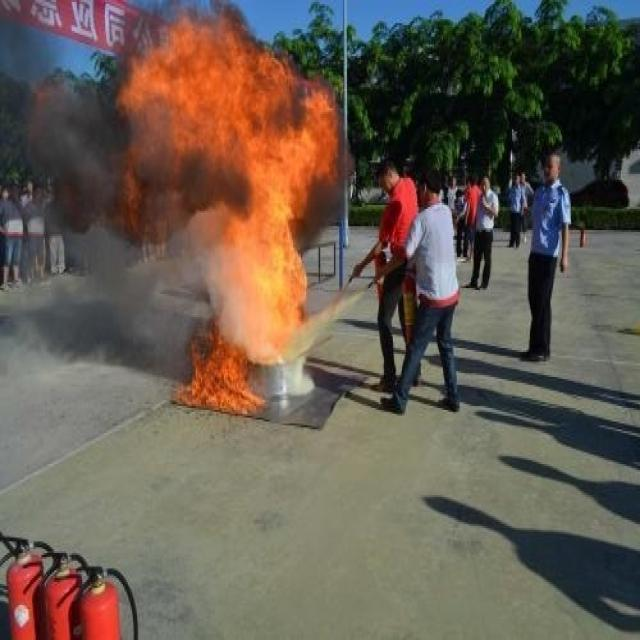Fire: (114, 10, 340, 418)
Smoke: (1, 2, 355, 394)
